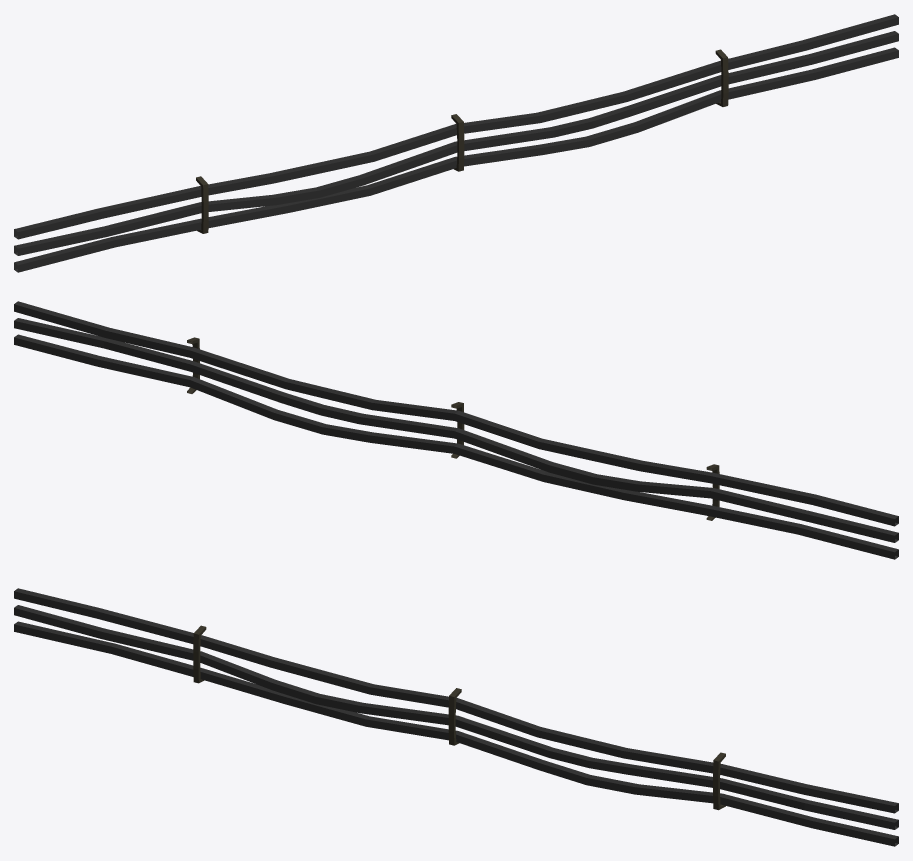
Rendered from SW_ENV_Wires3_FlatWall_06_05m.fbx.
The picture shows the model from 3 angles, top to bottom: view 1: azimuth 30°, elevation 25°; view 2: azimuth 150°, elevation 25°; view 3: azimuth 330°, elevation 25°; orthographic projection.
Visible parts, largest first — view 1: SW_ENV_Wires3_FlatWall_06_05m; view 2: SW_ENV_Wires3_FlatWall_06_05m; view 3: SW_ENV_Wires3_FlatWall_06_05m.
Boxes of the visible parts, x1=… form: SW_ENV_Wires3_FlatWall_06_05m: x1=14, y1=14, x2=898, y2=272; SW_ENV_Wires3_FlatWall_06_05m: x1=14, y1=301, x2=898, y2=559; SW_ENV_Wires3_FlatWall_06_05m: x1=14, y1=588, x2=898, y2=846.
Size of the model in its own units: 500 by 33.35 by 7.57.
